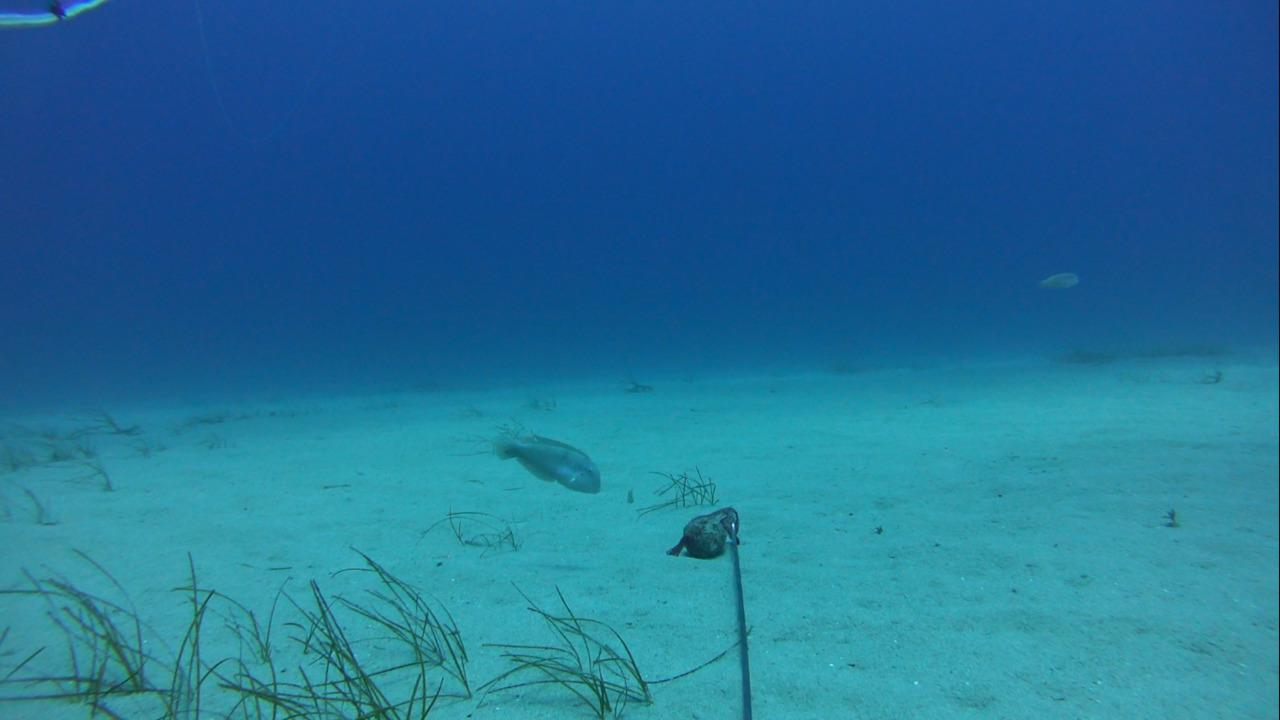raor: (488, 425, 607, 498), (1032, 264, 1088, 299)
